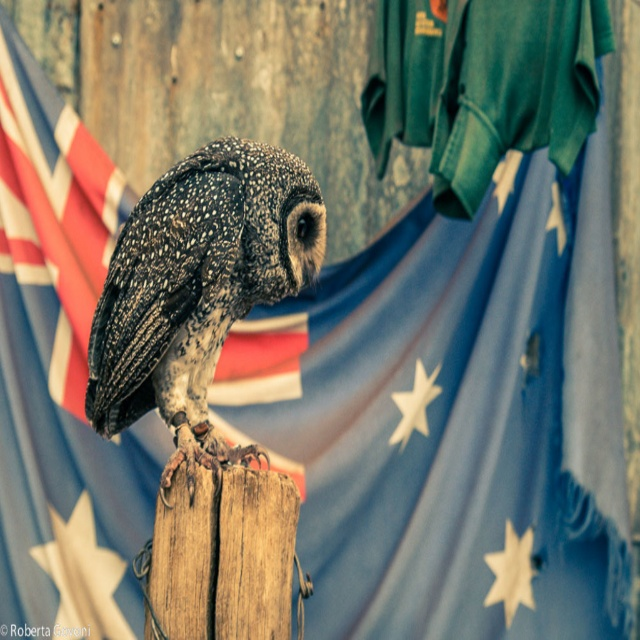Owl: (84, 129, 328, 511)
